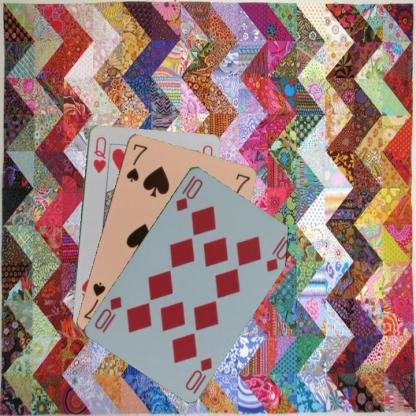10d: (173, 172, 204, 213), (182, 354, 214, 392)
7s: (123, 140, 149, 184)
Qh: (90, 134, 107, 174)
